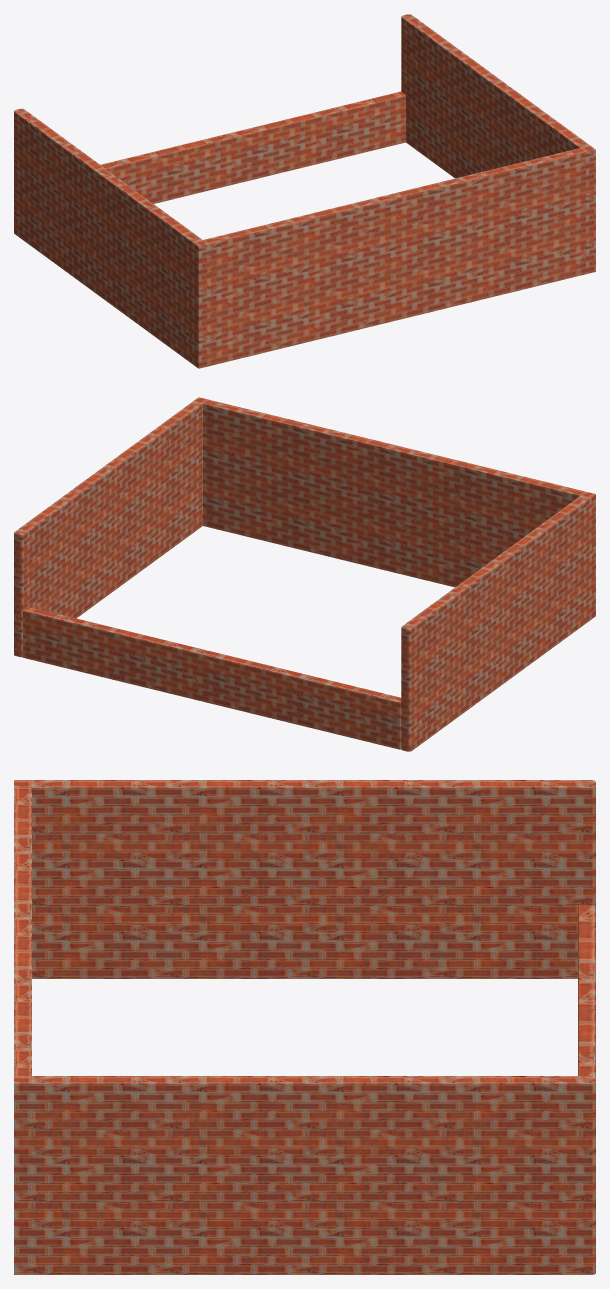
File: Walls.fbx
3 views of the same model, one above another, from view 1: azimuth 30°, elevation 25°; view 2: azimuth 150°, elevation 25°; view 3: azimuth 270°, elevation 25° (orthographic). The views are drawn at different scales.
Visible parts, largest first — view 1: Walls; view 2: Walls; view 3: Walls.
Boxes of the visible parts, x1,y1,x2,y2 form: Walls: (14,14,595,368); Walls: (14,397,595,751); Walls: (14,780,595,1274).
Size of the model in its own units: 31580 by 9279 by 25580.
